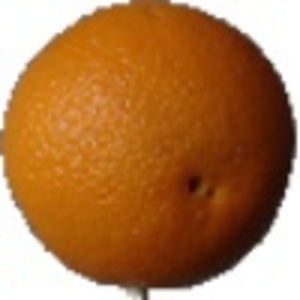laranja: (5, 2, 295, 299)
